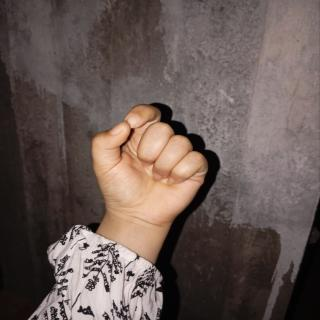FAA: (77, 98, 221, 243)
